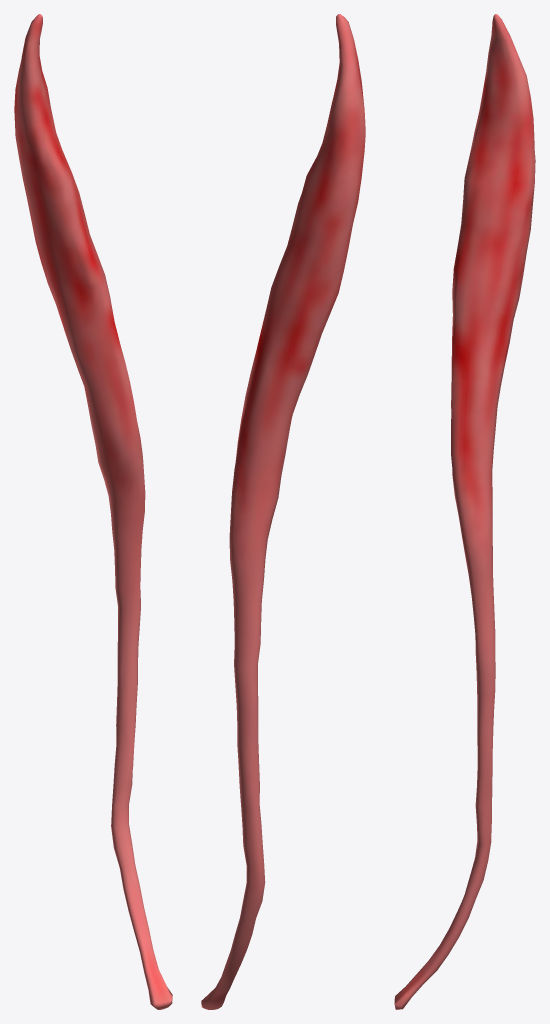
Rendered from Common_Digital_Extensor.glb.
3 views of the same model, side by side, from view 1: azimuth 30°, elevation 25°; view 2: azimuth 210°, elevation 25°; view 3: azimuth 270°, elevation 25° (orthographic). The views are drawn at different scales.
Visible parts, largest first — view 1: common_digital_extensor1.002; view 2: common_digital_extensor1.002; view 3: common_digital_extensor1.002.
Part boxes in pixels (left/top/right/bottom): common_digital_extensor1.002: left=14, top=14, right=172, bottom=1009; common_digital_extensor1.002: left=201, top=14, right=365, bottom=1009; common_digital_extensor1.002: left=394, top=14, right=535, bottom=1009.
Bounding box in the file's own units: 0.0927 × 0.7776 × 0.1037.
Materials: 1 (1 with a texture image).
